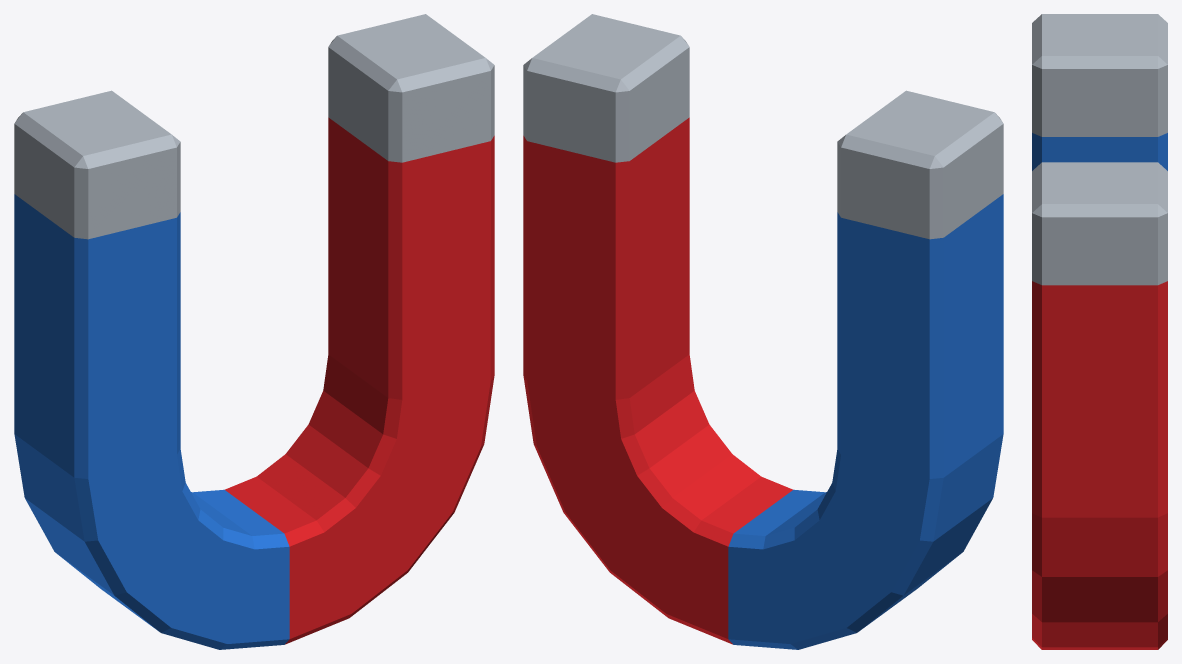
File: SM_Magnet.fbx
3 views of the same model, side by side, from view 1: azimuth 30°, elevation 25°; view 2: azimuth 150°, elevation 25°; view 3: azimuth 270°, elevation 25° (orthographic). The views are drawn at different scales.
Parts seen in each view (by area): view 1: SM_Magnet; view 2: SM_Magnet; view 3: SM_Magnet.
Boxes of the visible parts, x1=… form: SM_Magnet: x1=14, y1=14, x2=494, y2=649; SM_Magnet: x1=523, y1=14, x2=1003, y2=649; SM_Magnet: x1=1032, y1=14, x2=1167, y2=649.
Size of the model in its own units: 1.66 by 0.48 by 2.03.
